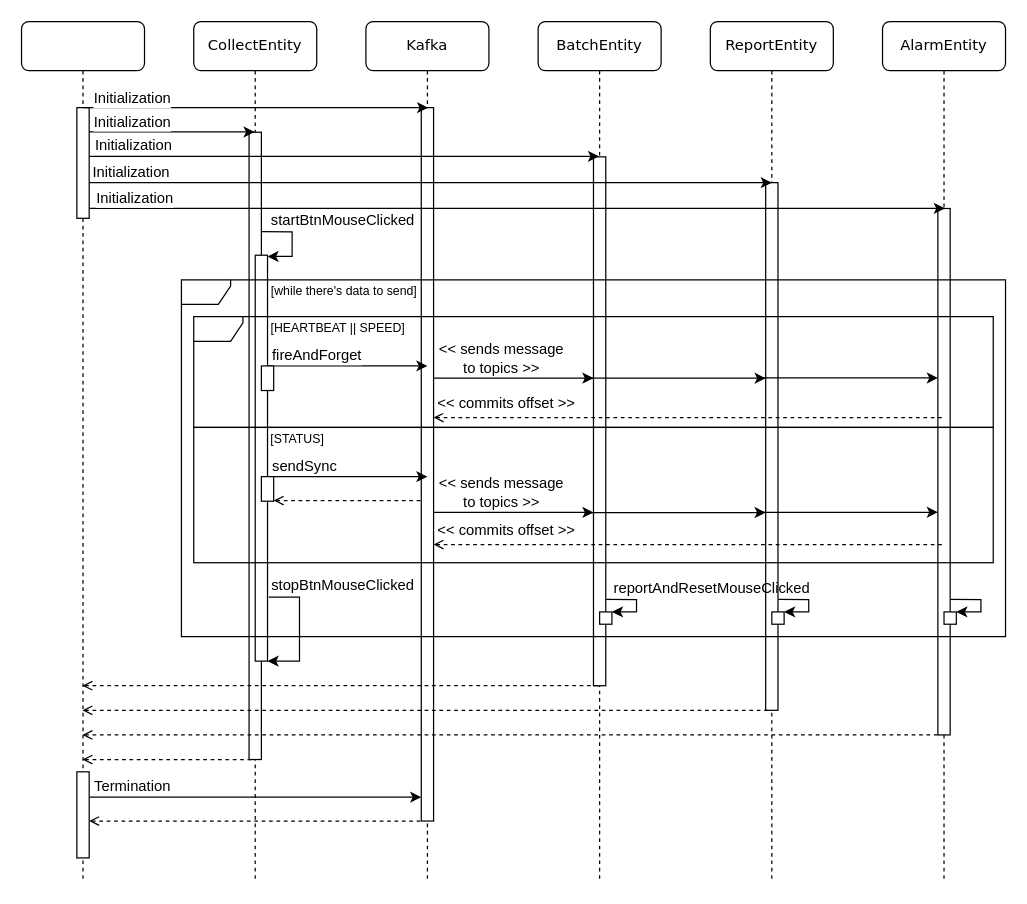
This 1027x904 diagram has some shape labels left out. Here are the shapes that lost their labels. From the top down, the box of each, then its label:
(192, 315, 993, 427): alt
(20, 20, 145, 883): Main
(180, 279, 1006, 637): loop
